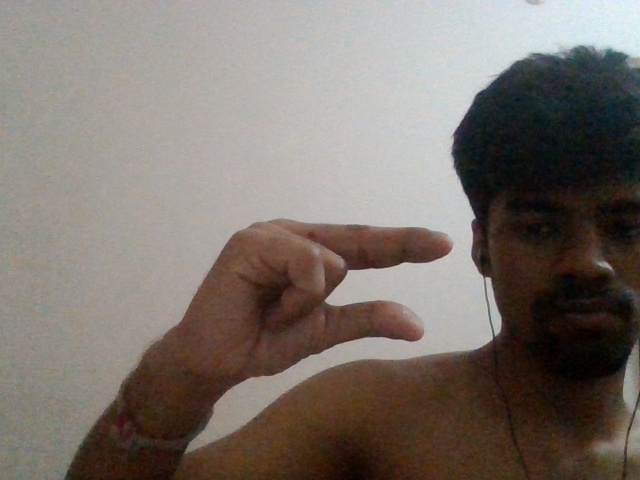No: (187, 205, 453, 379)
